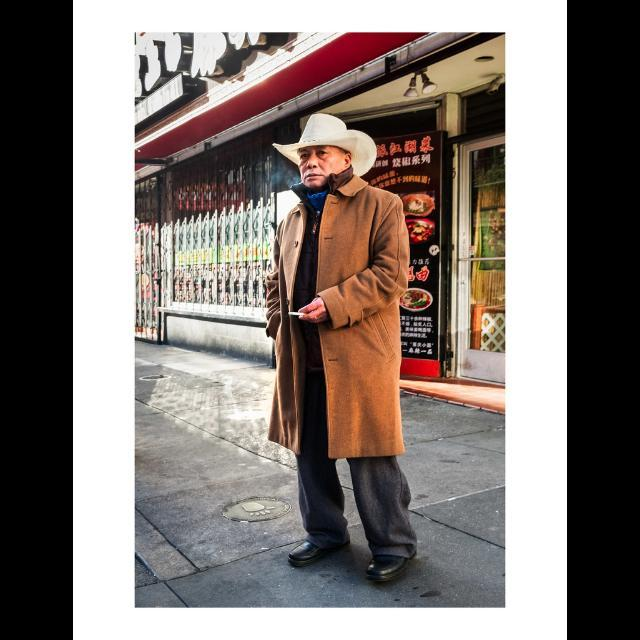rokok: (284, 306, 312, 318)
